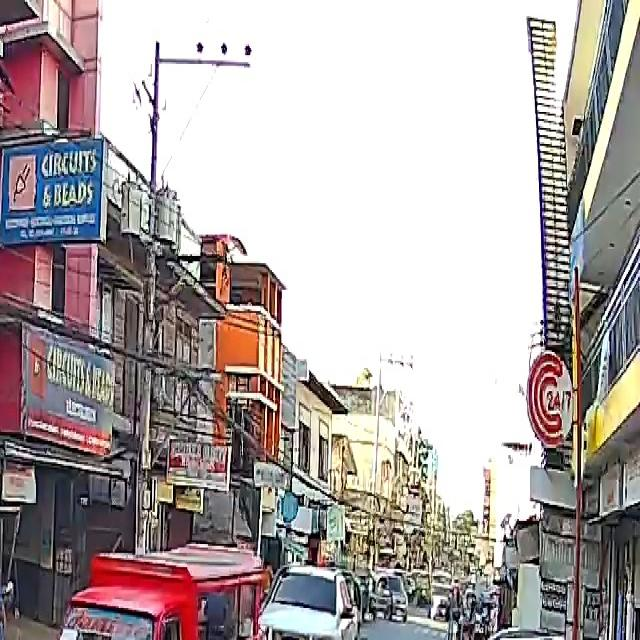car: (258, 563, 364, 640), (468, 624, 639, 640), (369, 574, 410, 624)
